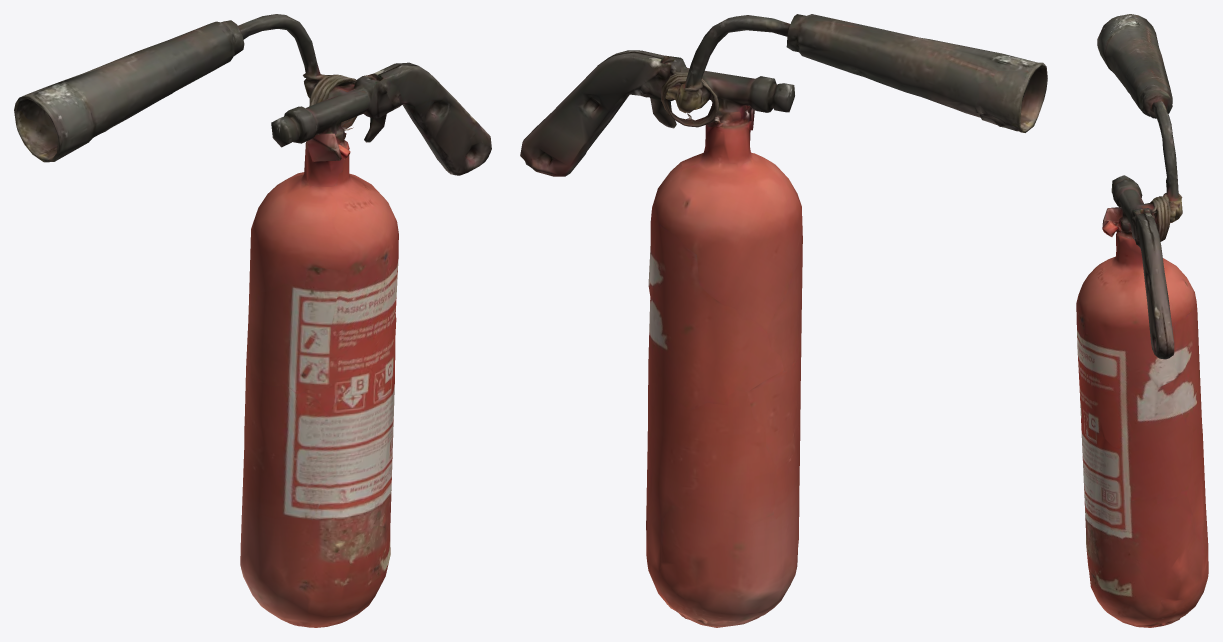
File: fire_extinguisher.glb
The picture shows the model from 3 angles, left to right: view 1: azimuth 30°, elevation 25°; view 2: azimuth 150°, elevation 25°; view 3: azimuth 270°, elevation 25°; orthographic projection. The views are drawn at different scales.
Visible parts, largest first — view 1: hasicak; view 2: hasicak; view 3: hasicak.
Boxes of the visible parts, <box> form: hasicak: <box>14,14,491,627</box>; hasicak: <box>520,14,1047,627</box>; hasicak: <box>1076,14,1208,627</box>.
Size of the model in its own units: 0.5405 by 0.6599 by 0.1579.
Materials: 1 (1 with a texture image).
